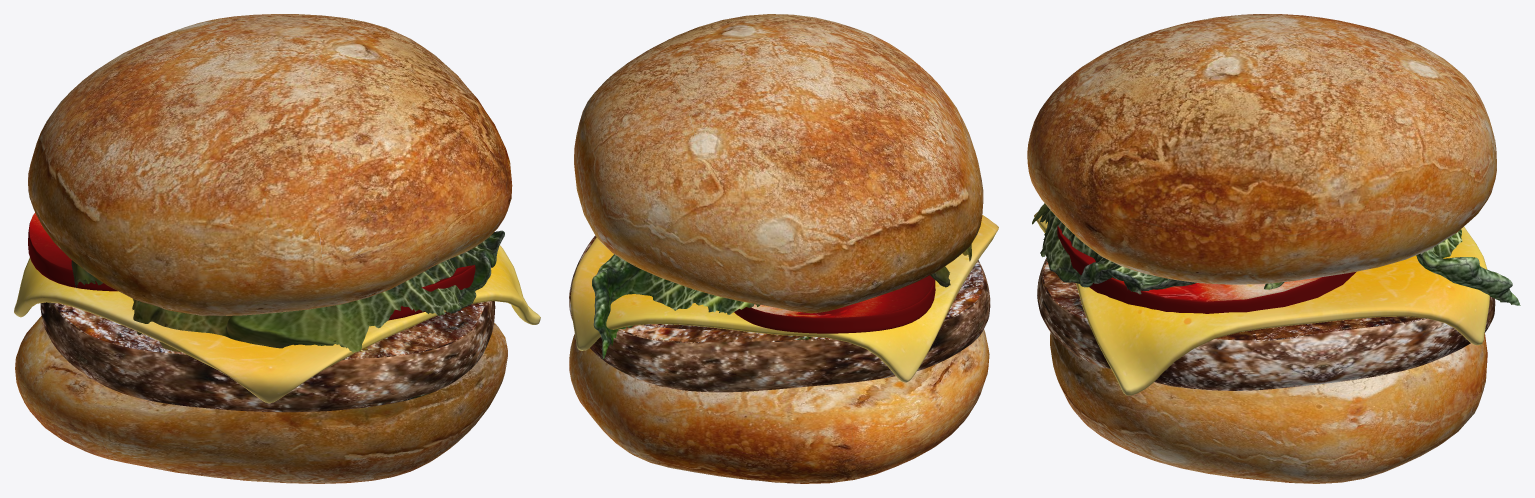
The model's file is burger.glb.
3 views of the same model, side by side, from view 1: azimuth 30°, elevation 25°; view 2: azimuth 150°, elevation 25°; view 3: azimuth 270°, elevation 25° (orthographic). The views are drawn at different scales.
Parts seen in each view (by area): view 1: Bread2A_Bread2A_0, Bread2B_Bread2A_0, Patty2, Cheese2, Cabbage2_Cabbage2_0, Tomato003, Tomato2A; view 2: Bread2A_Bread2A_0, Bread2B_Bread2A_0, Patty2, Cheese2, Tomato003, Cabbage2_Cabbage2_0; view 3: Bread2A_Bread2A_0, Bread2B_Bread2A_0, Patty2, Cheese2, Cabbage2_Cabbage2_0, Tomato2A.
Part boxes in pixels (x1,y1,x2,y2): Bread2A_Bread2A_0: (28, 14, 512, 315); Bread2B_Bread2A_0: (15, 316, 507, 483); Patty2: (40, 301, 495, 412); Cheese2: (14, 245, 540, 403); Cabbage2_Cabbage2_0: (71, 230, 504, 352); Tomato003: (28, 212, 117, 291); Tomato2A: (388, 265, 475, 320); Bread2A_Bread2A_0: (574, 14, 983, 313); Bread2B_Bread2A_0: (569, 329, 989, 483); Patty2: (569, 235, 990, 392); Cheese2: (570, 215, 998, 382); Tomato003: (734, 275, 935, 333); Cabbage2_Cabbage2_0: (592, 244, 971, 358); Bread2A_Bread2A_0: (1027, 14, 1496, 284); Bread2B_Bread2A_0: (1050, 332, 1487, 483); Patty2: (1037, 258, 1495, 390); Cheese2: (1034, 212, 1489, 395); Cabbage2_Cabbage2_0: (1032, 203, 1520, 305); Tomato2A: (1057, 225, 1356, 313).
Bounding box in the file's own units: 0.1136 × 0.1027 × 0.12.
7 materials, 6 textured.
